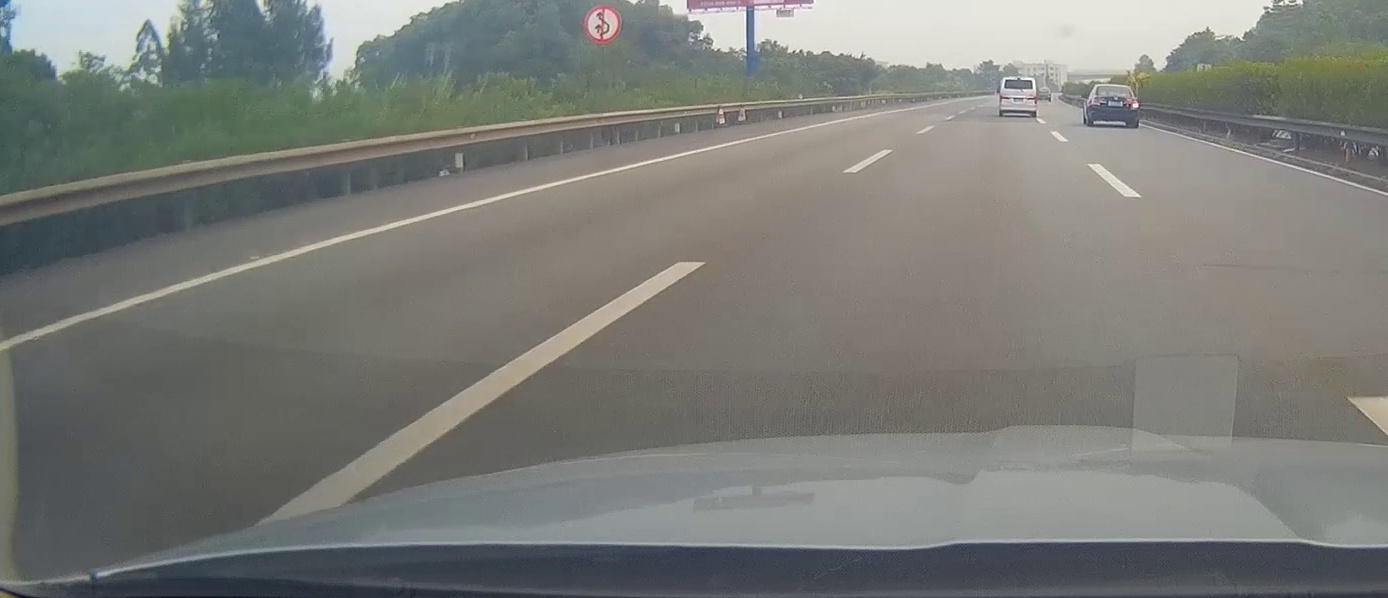L_light: (1092, 97, 1106, 106), (1000, 96, 1010, 103)
R_light: (1125, 98, 1138, 107), (1027, 96, 1037, 104)
T_light: (1110, 85, 1118, 87), (1015, 79, 1022, 81)
day-no: (999, 77, 1038, 118)
day-right: (1087, 84, 1139, 128)
